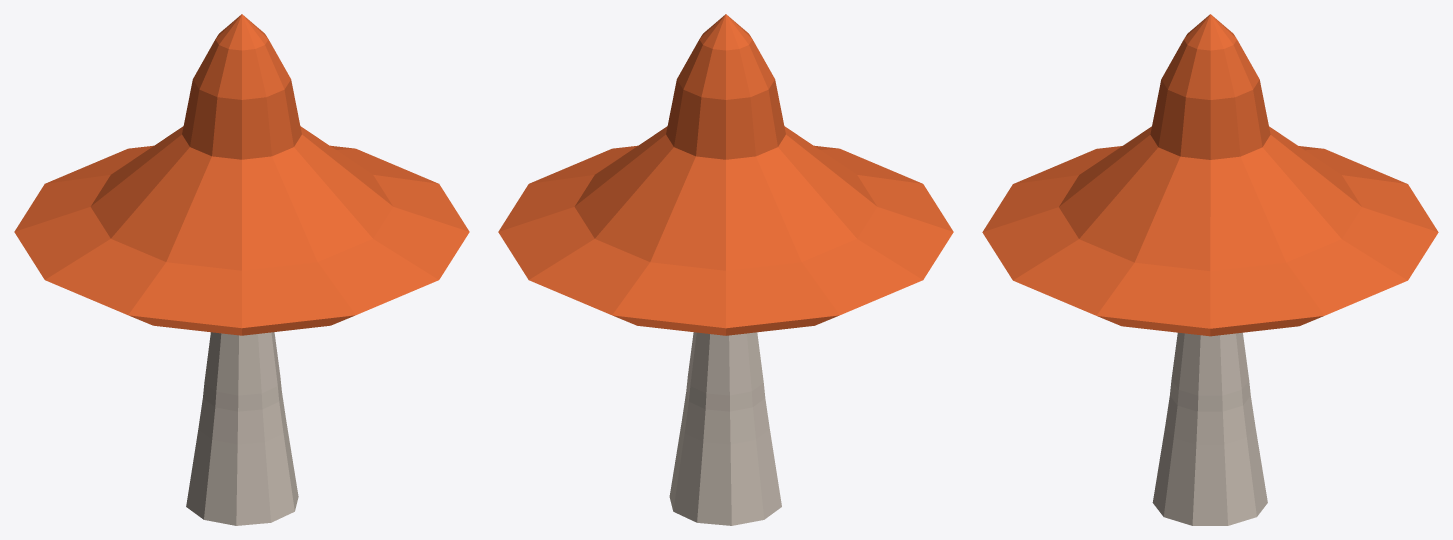
The model's file is turuncu_mantar2.fbx.
3 views of the same model, side by side, from view 1: azimuth 30°, elevation 25°; view 2: azimuth 150°, elevation 25°; view 3: azimuth 270°, elevation 25° (orthographic).
Parts seen in each view (by area): view 1: Cylinder.005, Cylinder.003; view 2: Cylinder.005, Cylinder.003; view 3: Cylinder.005, Cylinder.003.
Part boxes in pixels (box(x1,y1,x2,y2)): Cylinder.005: box(14, 14, 469, 335); Cylinder.003: box(186, 332, 298, 525); Cylinder.005: box(498, 14, 953, 335); Cylinder.003: box(669, 332, 781, 525); Cylinder.005: box(982, 14, 1438, 336); Cylinder.003: box(1152, 332, 1267, 525).
Size of the model in its own units: 1294 by 1529 by 1294.
